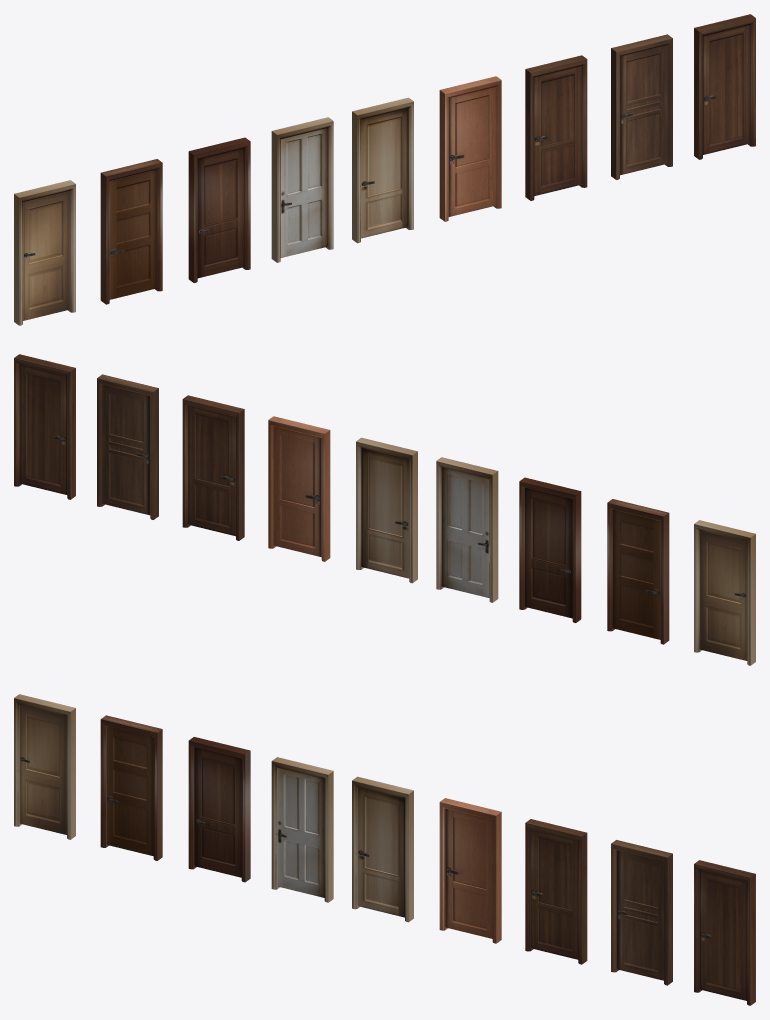
The model's file is low-poly_psx_style_wooden_interior_doors_pack.glb.
3 renders of one model, top to bottom at view 1: azimuth 30°, elevation 25°; view 2: azimuth 150°, elevation 25°; view 3: azimuth 330°, elevation 25°, orthographic.
Parts seen in each view (by area): view 1: Wooden Door_006, Wooden Door_007, Wooden Door_004, Wooden Door_009, Wooden Door_008, Wooden Door_005, Wooden Door_002, Wooden Door_001, Wooden Door_003, Wooden Doorframe_003, Wooden Doorframe_009.001, Wooden Doorframe_005.001 (+6 smaller); view 2: Wooden Door_006, Wooden Door_008, Wooden Door_005, Wooden Door_007, Wooden Door_002, Wooden Door_001, Wooden Door_004, Wooden Door_009, Wooden Door_003, Wooden Doorframe_009.001, Wooden Doorframe_005.001, Wooden Doorframe_004 (+6 smaller); view 3: Wooden Door_009, Wooden Door_006, Wooden Door_008, Wooden Door_002, Wooden Door_005, Wooden Door_007, Wooden Door_001, Wooden Door_003, Wooden Door_004, Wooden Doorframe_004, Wooden Doorframe_009, Wooden Doorframe_005.001 (+6 smaller).
Boxes of the visible parts, x1,y1,x2,y2 form: Wooden Door_006: [280, 128, 328, 257]; Wooden Door_007: [109, 169, 157, 299]; Wooden Door_004: [448, 87, 496, 216]; Wooden Door_009: [197, 148, 244, 278]; Wooden Door_008: [23, 191, 70, 320]; Wooden Door_005: [361, 108, 408, 238]; Wooden Door_002: [620, 45, 667, 175]; Wooden Door_001: [703, 25, 750, 154]; Wooden Door_003: [534, 66, 581, 196]; Wooden Doorframe_003: [525, 55, 587, 200]; Wooden Doorframe_009.001: [100, 159, 162, 304]; Wooden Doorframe_005.001: [271, 117, 333, 262]; Wooden Door_006: [441, 467, 489, 597]; Wooden Door_008: [699, 530, 747, 660]; Wooden Door_005: [361, 448, 409, 578]; Wooden Door_007: [612, 509, 660, 639]; Wooden Door_002: [102, 384, 150, 515]; Wooden Door_001: [19, 364, 67, 494]; Wooden Door_004: [273, 426, 321, 557]; Wooden Door_009: [525, 487, 572, 618]; Wooden Door_003: [188, 405, 235, 536]; Wooden Doorframe_009.001: [607, 499, 669, 644]; Wooden Doorframe_005.001: [436, 457, 498, 602]; Wooden Doorframe_004: [268, 416, 330, 561]; Wooden Door_009: [194, 747, 241, 877]; Wooden Door_006: [277, 768, 324, 897]; Wooden Door_008: [19, 705, 66, 834]; Wooden Door_002: [616, 850, 663, 980]; Wooden Door_005: [357, 787, 404, 917]; Wooden Door_007: [106, 726, 153, 856]; Wooden Door_001: [699, 871, 746, 1000]; Wooden Door_003: [531, 829, 578, 959]; Wooden Door_004: [445, 808, 492, 938]; Wooden Doorframe_004: [439, 798, 501, 943]; Wooden Doorframe_009: [188, 737, 250, 882]; Wooden Doorframe_005.001: [271, 757, 333, 902].
Bounding box in the file's own units: 11.67 × 1.94 × 0.1736.
Materials: 1 (1 with a texture image).
